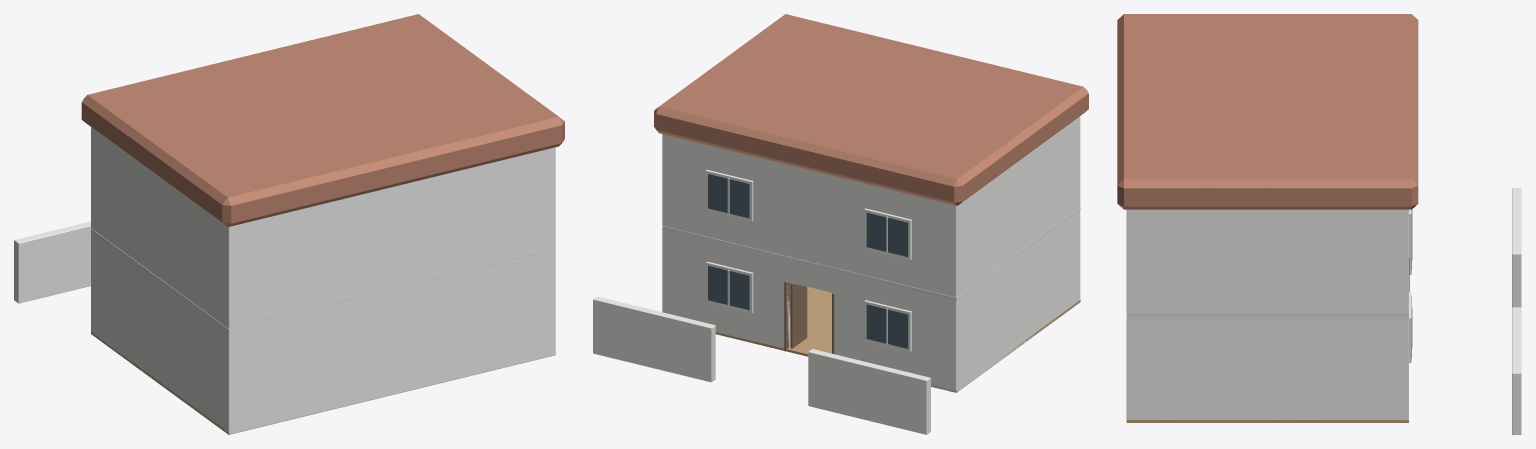
File: Sultanbeyli_WhiteVillaEast.fbx
The picture shows the model from 3 angles, left to right: view 1: azimuth 30°, elevation 25°; view 2: azimuth 150°, elevation 25°; view 3: azimuth 270°, elevation 25°; orthographic projection. The views are drawn at different scales.
Parts seen in each view (by area): view 1: Sultanbeyli_WhiteVillaEast; view 2: Sultanbeyli_WhiteVillaEast; view 3: Sultanbeyli_WhiteVillaEast.
Boxes of the visible parts, left/top/right/bottom form: Sultanbeyli_WhiteVillaEast: left=14, top=14, right=564, bottom=434; Sultanbeyli_WhiteVillaEast: left=593, top=14, right=1088, bottom=434; Sultanbeyli_WhiteVillaEast: left=1117, top=14, right=1521, bottom=434.
Bounding box in the file's own units: 11.8 × 7.3 × 10.88.
